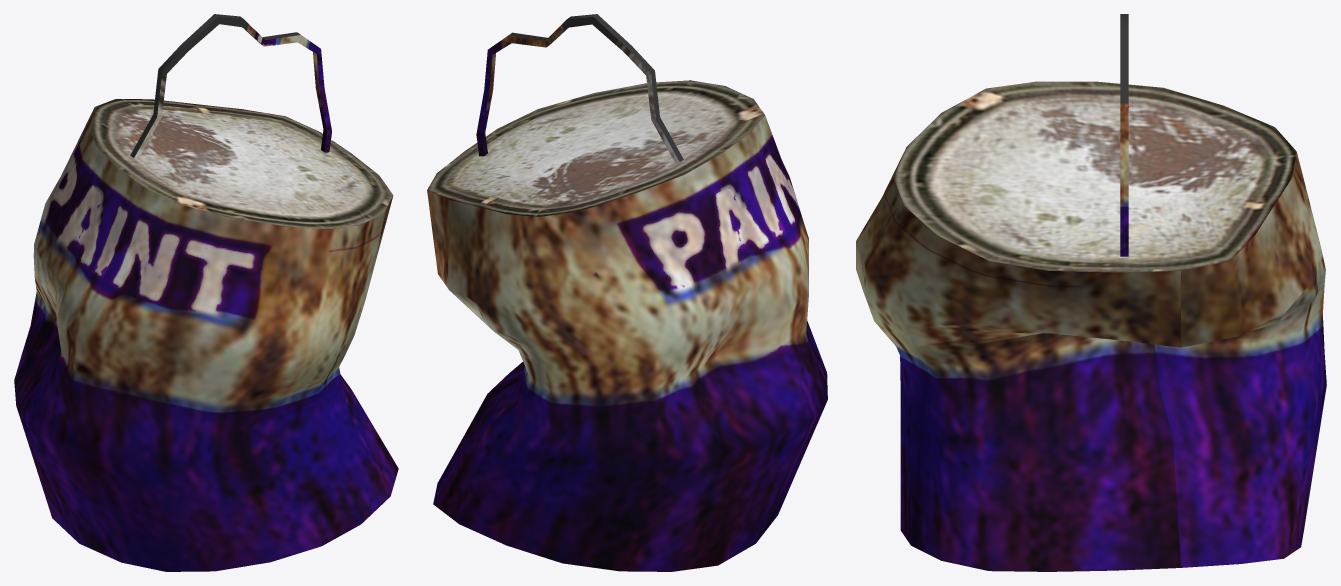
File: PaintBucketABroken_1.fbx
3 views of the same model, side by side, from view 1: azimuth 30°, elevation 25°; view 2: azimuth 150°, elevation 25°; view 3: azimuth 270°, elevation 25° (orthographic). The views are drawn at different scales.
Visible parts, largest first — view 1: PaintCanCrooked; view 2: PaintCanCrooked; view 3: PaintCanCrooked.
Part boxes in pixels (x1,y1,x2,y2): PaintCanCrooked: (14,14,398,571); PaintCanCrooked: (427,14,827,571); PaintCanCrooked: (856,14,1326,571).
Size of the model in its own units: 122 by 172 by 135.
